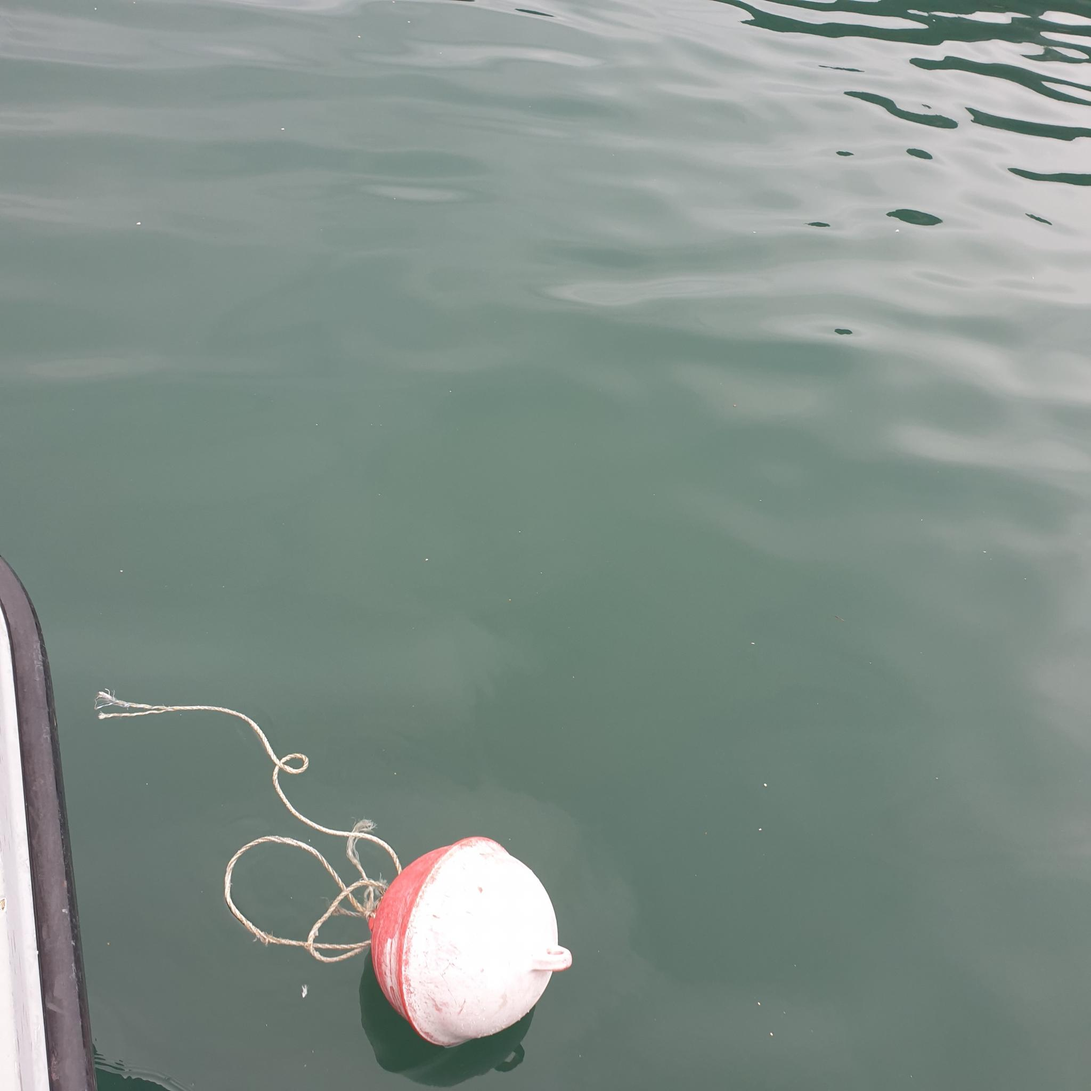sampah_terapung: (98, 693, 403, 964), (369, 836, 573, 1049)
